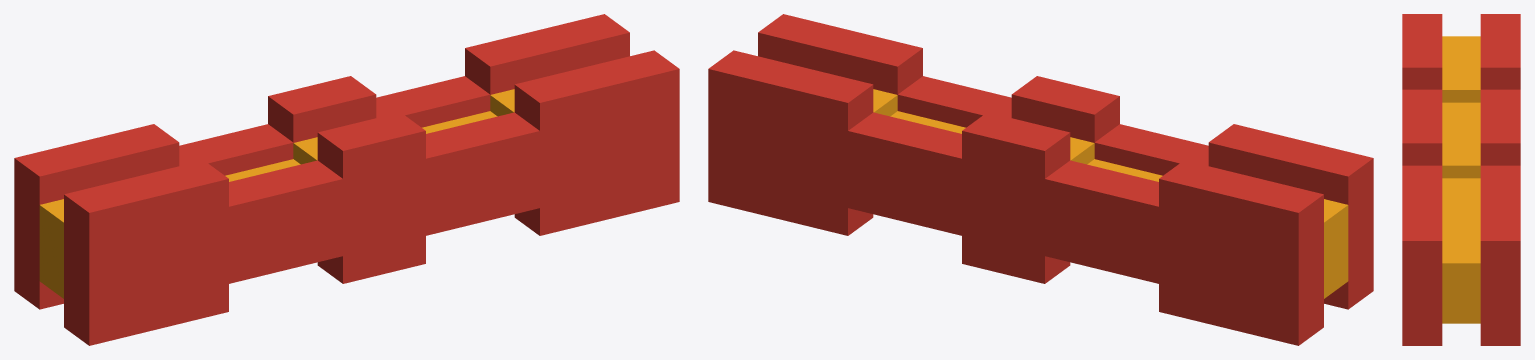
File: Barricade_Plastic_03.fbx
3 renders of one model, left to right at view 1: azimuth 30°, elevation 25°; view 2: azimuth 150°, elevation 25°; view 3: azimuth 270°, elevation 25°, orthographic. The views are drawn at different scales.
Parts seen in each view (by area): view 1: Obstacle_Barricade_Plastic_03; view 2: Obstacle_Barricade_Plastic_03; view 3: Obstacle_Barricade_Plastic_03.
Boxes of the visible parts, <box> form: Obstacle_Barricade_Plastic_03: <box>14,14,679,345</box>; Obstacle_Barricade_Plastic_03: <box>708,14,1373,345</box>; Obstacle_Barricade_Plastic_03: <box>1402,14,1520,345</box>.
Bounding box in the file's own units: 147 × 31.72 × 32.42.
Materials: 1 (1 with a texture image).
